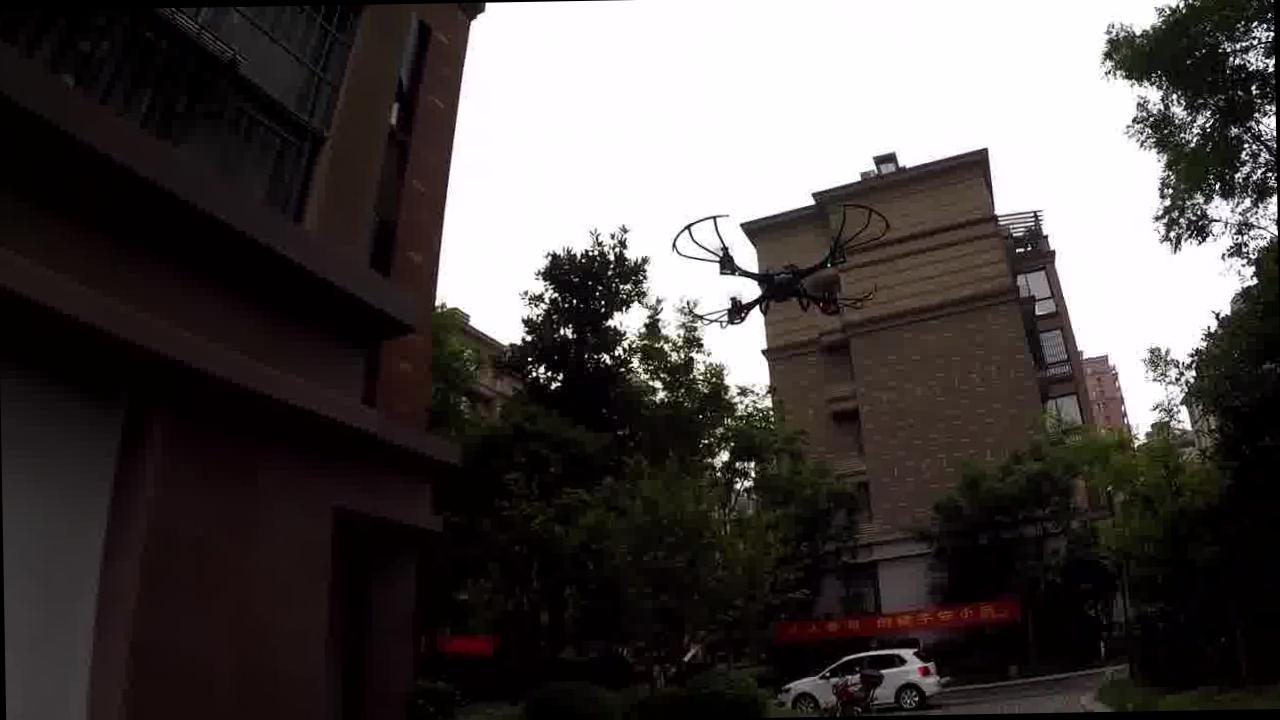drone: (654, 202, 899, 338)
